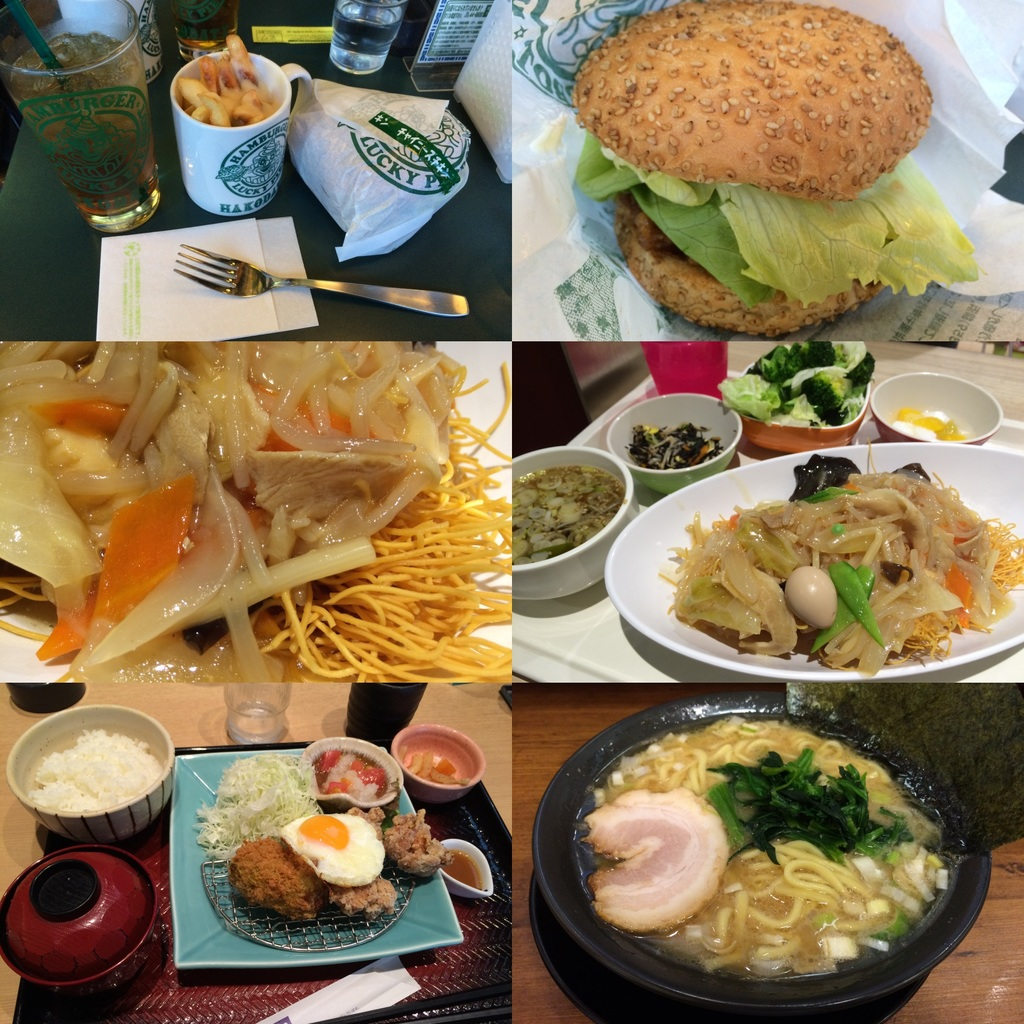Hamburger: (572, 0, 987, 339)
